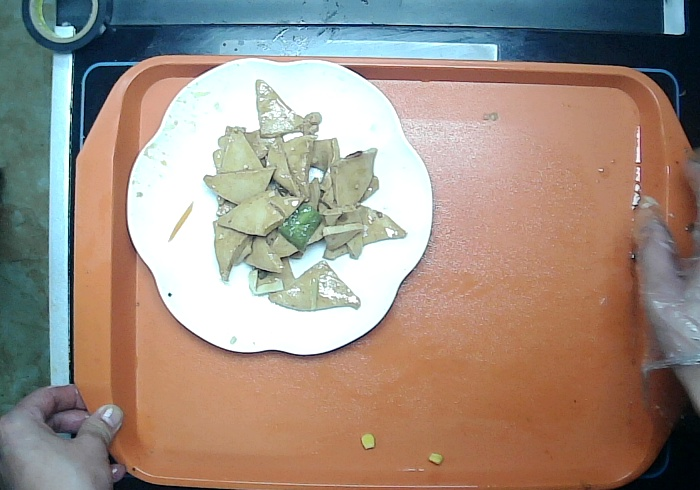HZYJPL-Bai_Se_Hua_Duo_Wan: (126, 54, 433, 359)
